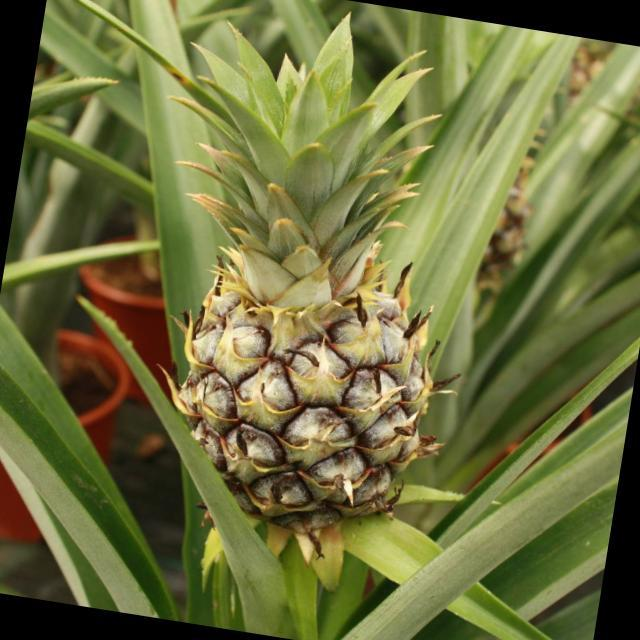PINEAPLE: (158, 26, 488, 538)
